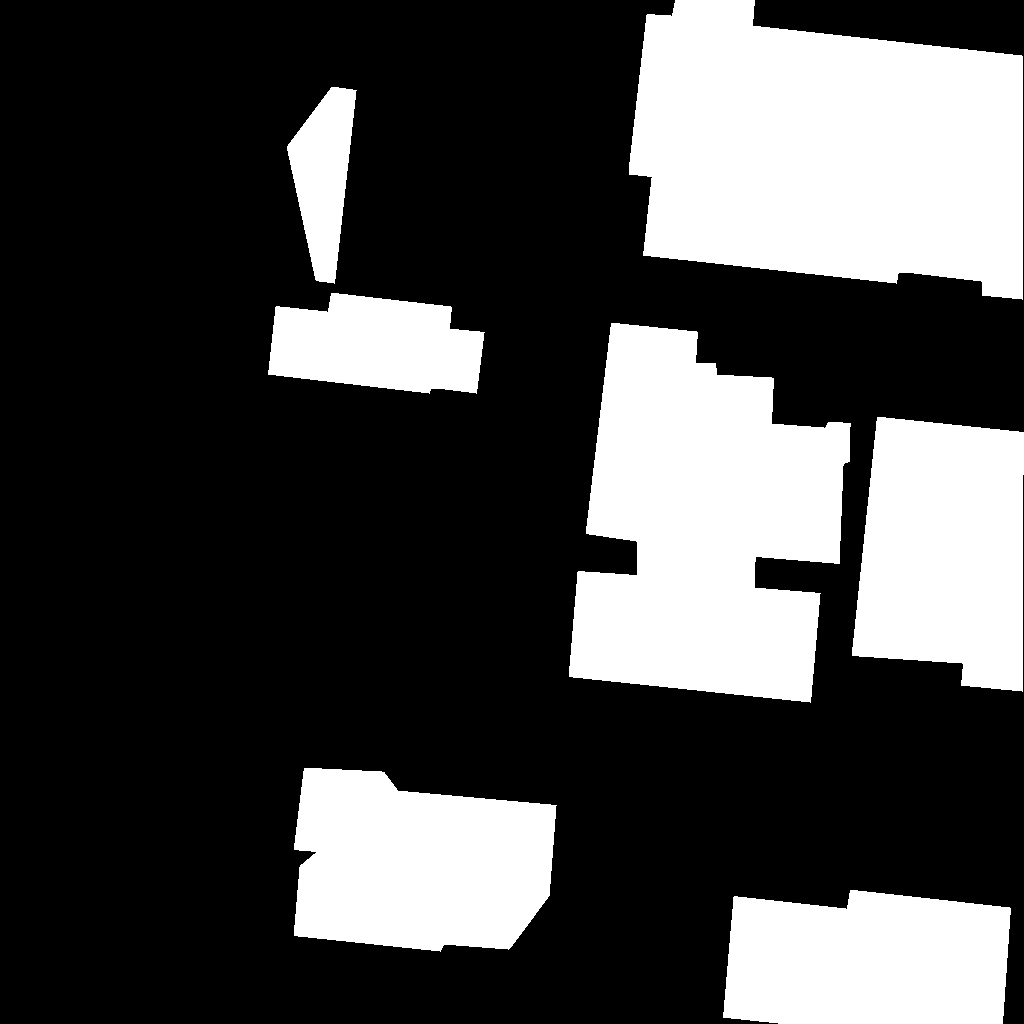building: (629, 0, 1024, 300), (569, 323, 851, 703), (294, 768, 557, 952), (852, 417, 1024, 692), (723, 890, 1012, 1024), (268, 293, 485, 394), (287, 87, 357, 284)
